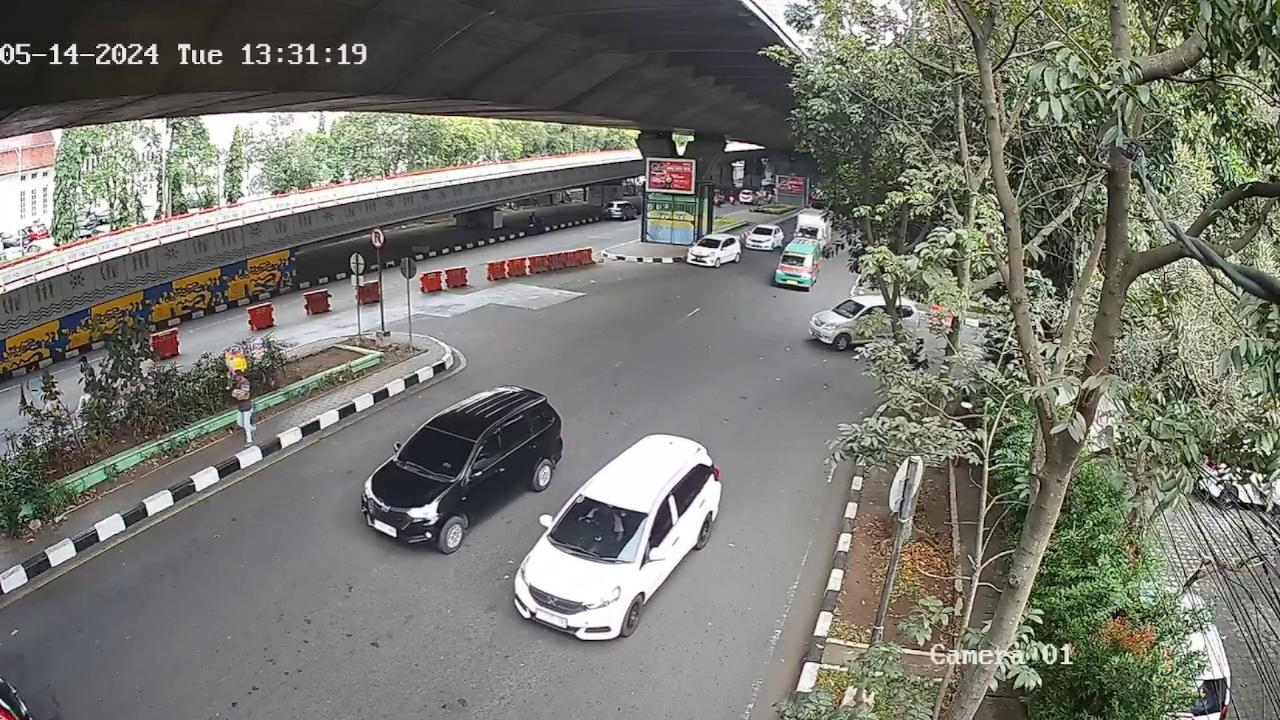tidak-pakai: (580, 501, 619, 541)
windshield: (554, 493, 647, 572), (397, 425, 481, 477)
